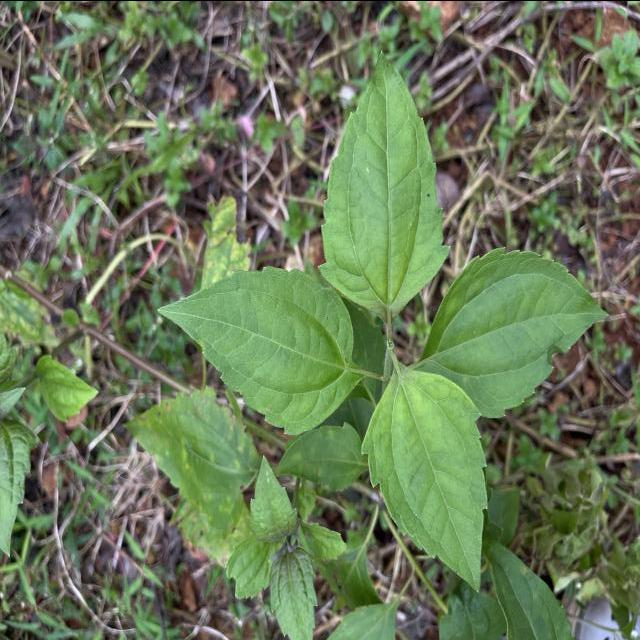Chromolaena odorata: (314, 46, 454, 326), (152, 262, 366, 438), (418, 243, 612, 422), (358, 357, 491, 596)
